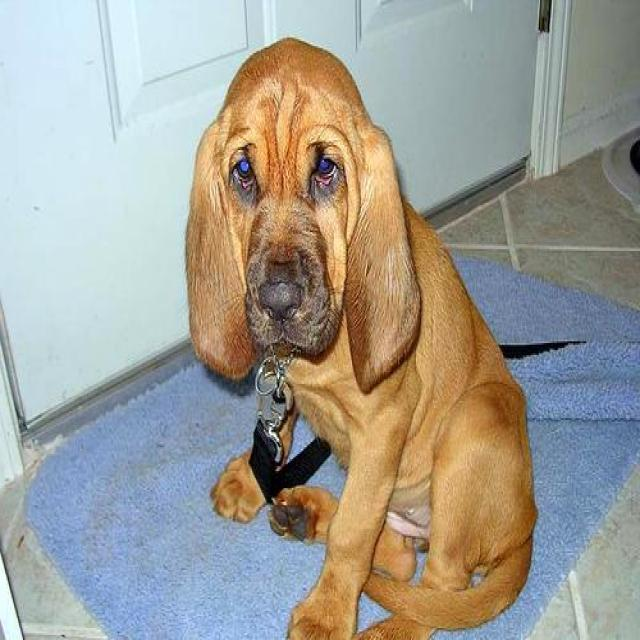bloodhound: (185, 36, 539, 638)
